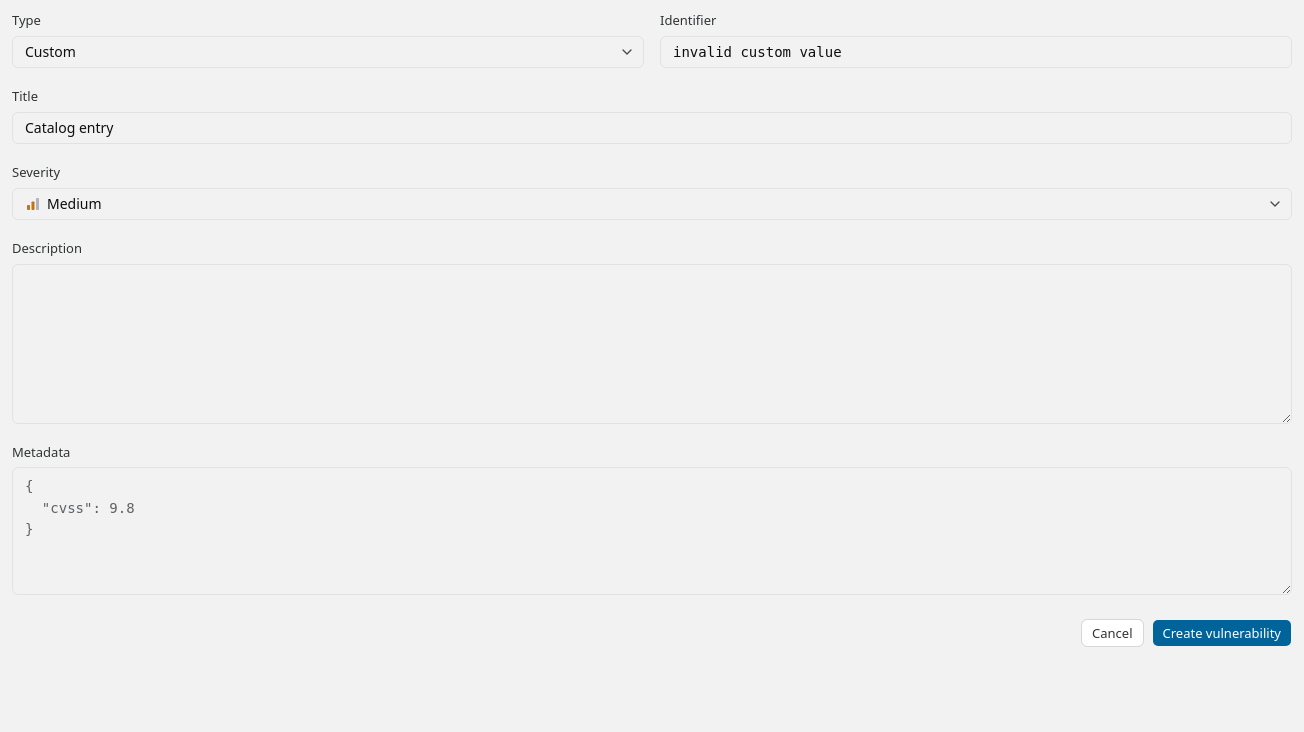
it: VulnerabilityForm › validates custom identifiers using the shared catalog contract
Click the button "Create vulnerability" at (1222, 633), box left=1152, top=619, right=1292, bottom=647
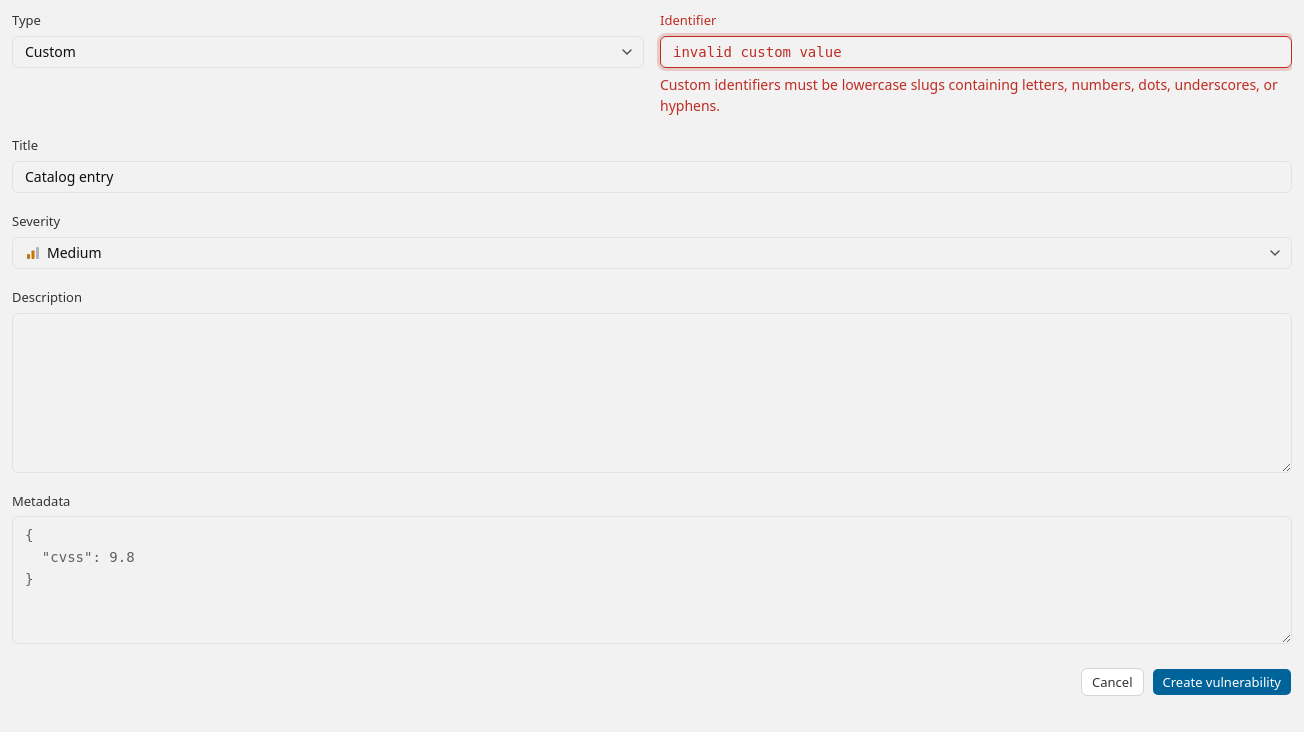
Expected: the text "Custom identifiers must be lowercase slugs containing letters, numbers, dots, underscores, or hyphens." is shown, left=660, top=75, right=1278, bottom=115
